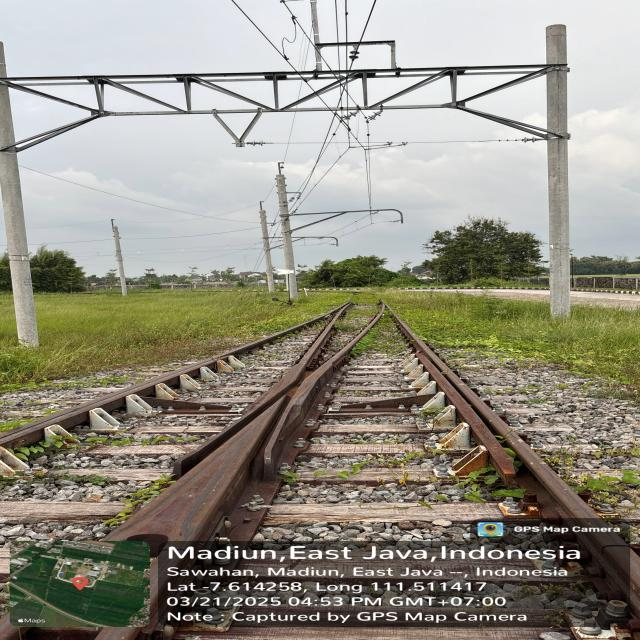rail-detection: (0, 302, 353, 446), (396, 316, 590, 516), (109, 396, 290, 543), (259, 304, 350, 402), (280, 338, 356, 427), (319, 311, 383, 370), (334, 316, 379, 364)
